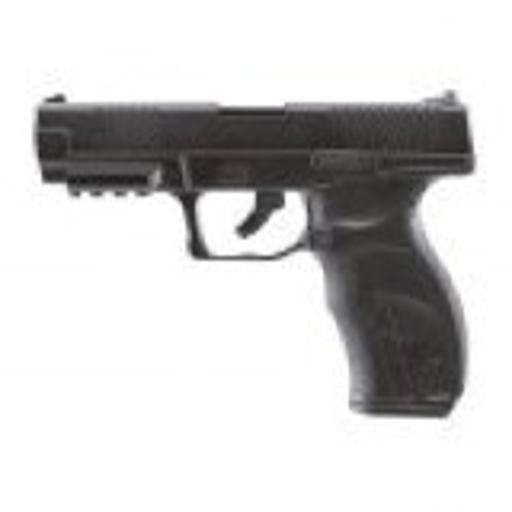Handgun: (31, 88, 475, 429)
